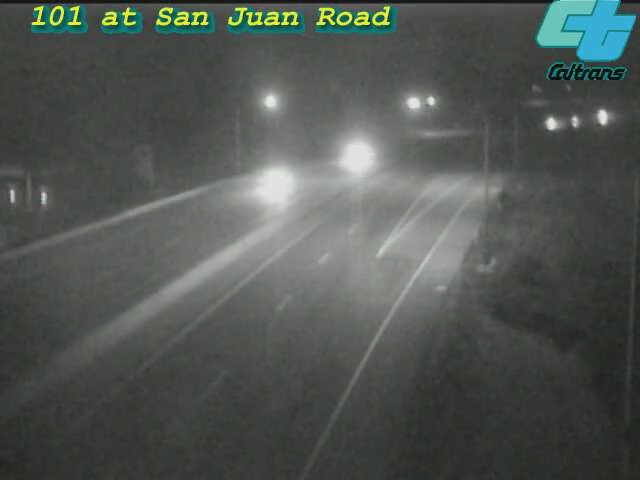vehicle: (237, 141, 317, 221), (319, 114, 399, 194), (578, 94, 628, 144), (548, 97, 598, 147), (523, 99, 573, 149)
